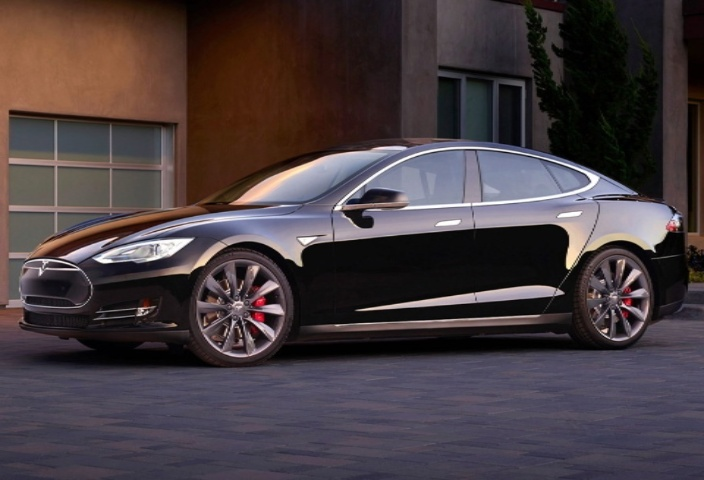car: (4, 121, 697, 368)
